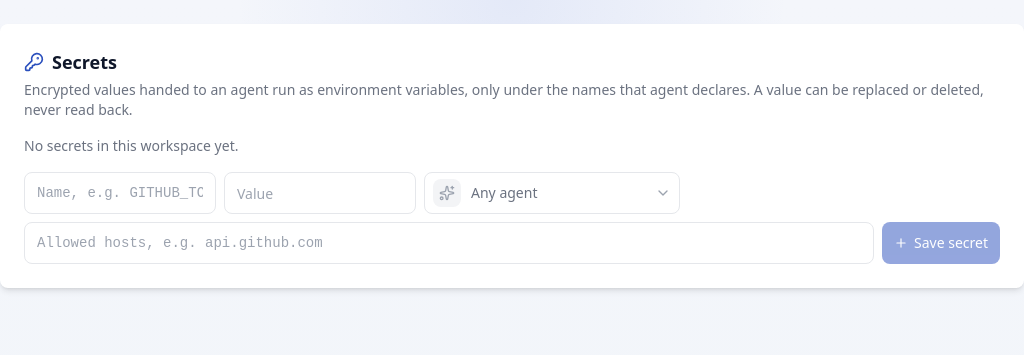
it: WorkspaceSecrets › explains the missing key when the backend refuses to store
This screenshot has width=1024, height=355.
Expected: the text "No secrets in this workspace yet." is shown, [24,136,238,155]
Type "X" into the field labelled "Name". click: coordinates (120, 193)
box: [24,172,216,214]
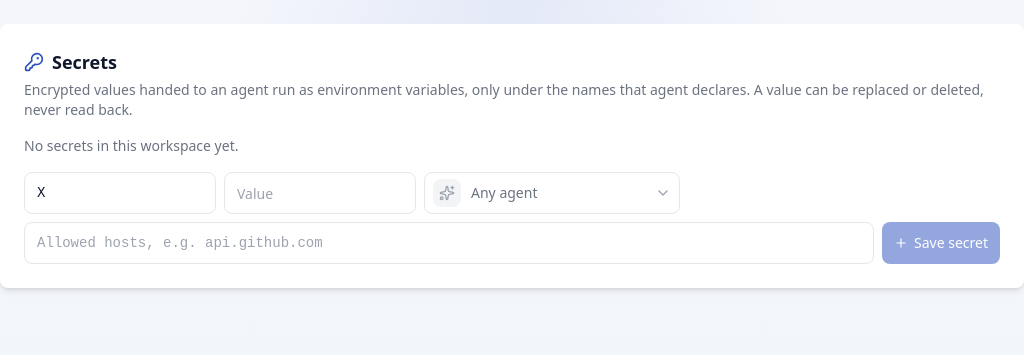
Type "v" into the password field labelled "Value". click: coordinates (320, 193)
box: [224,172,416,214]
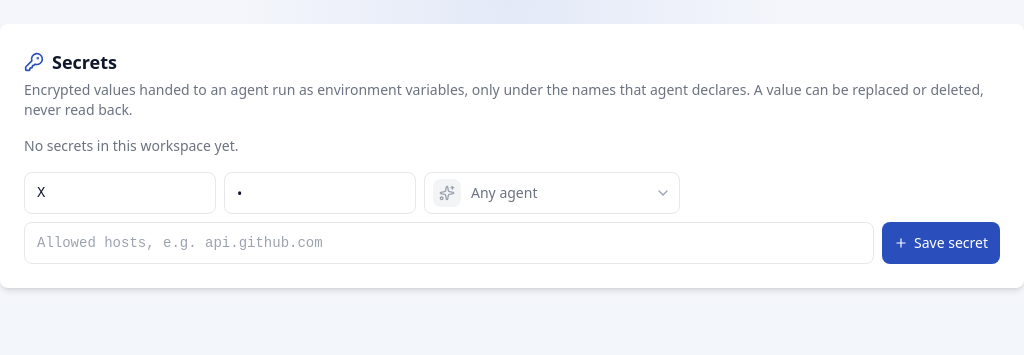
Click the button "Save secret". click: coordinates (941, 243)
box: [882,222,1000,264]
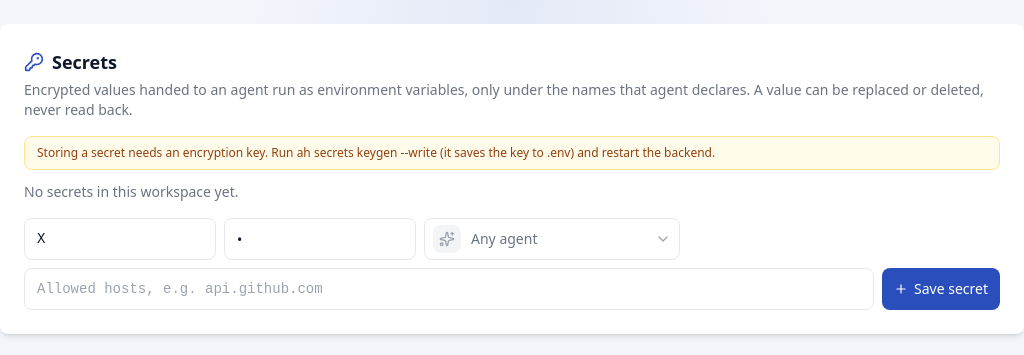
Now the message shows "ah secrets keygen", box [37,144,715,161]
